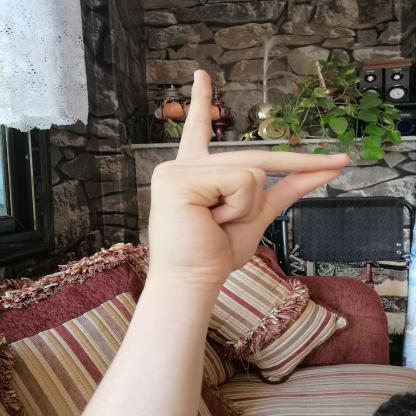TAA: (134, 62, 363, 290)
